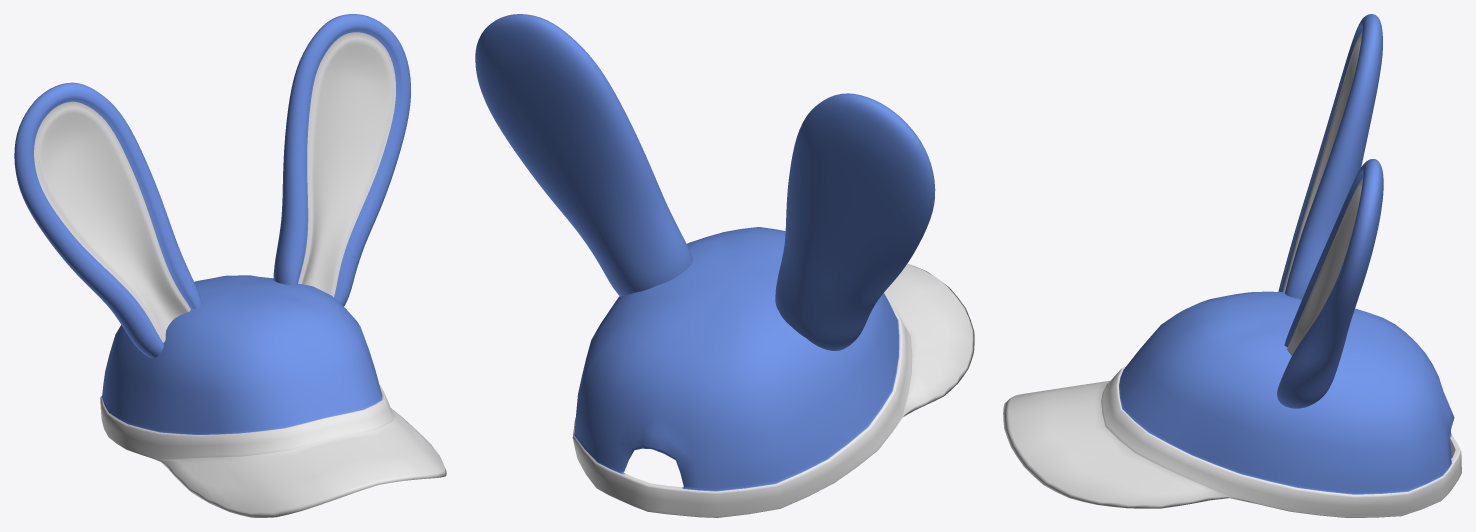
Rendered from bousi.fbx.
3 renders of one model, left to right at view 1: azimuth 30°, elevation 25°; view 2: azimuth 150°, elevation 25°; view 3: azimuth 270°, elevation 25°, orthographic. The views are drawn at different scales.
Parts seen in each view (by area): view 1: RabbitCap; view 2: RabbitCap; view 3: RabbitCap.
Boxes of the visible parts, x1,y1,x2,y2 form: RabbitCap: [14, 14, 446, 517]; RabbitCap: [475, 14, 974, 517]; RabbitCap: [1003, 14, 1461, 517].
Bounding box in the file's own units: 190 × 168 × 182.
